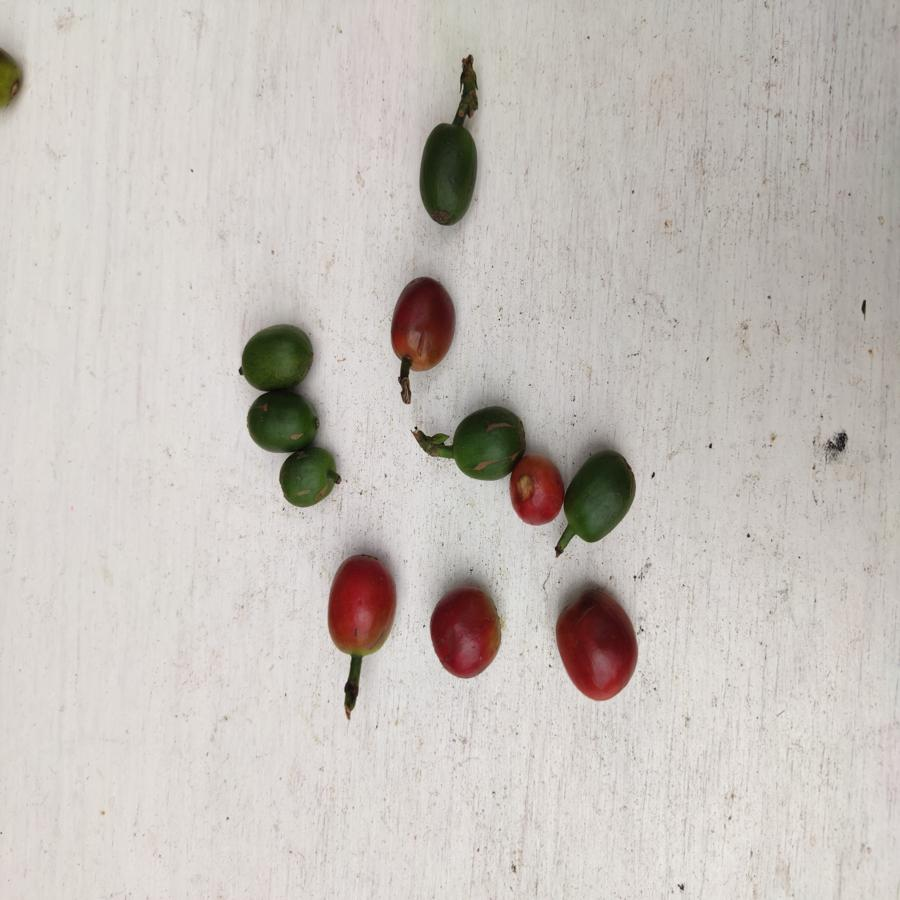Inmaduro: (566, 449, 635, 547), (440, 405, 516, 484), (420, 122, 479, 223), (239, 324, 316, 390), (245, 391, 322, 453), (279, 448, 340, 509)
Maduro: (555, 585, 638, 702), (326, 551, 397, 656), (430, 586, 502, 680), (391, 275, 456, 368), (509, 456, 565, 527)
